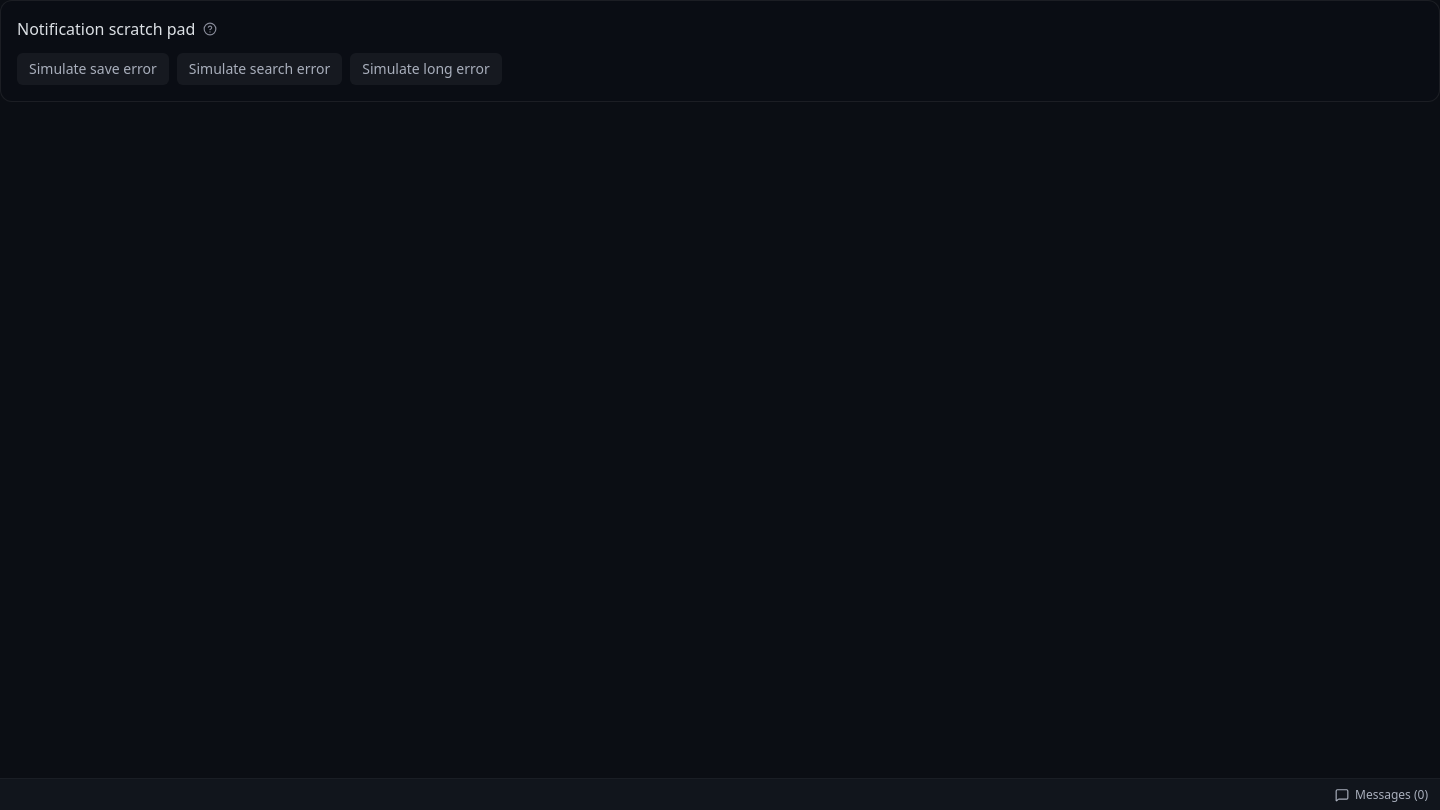
Test: sample errors use the app status line and history
Step 1. Click the button "Simulate save error" → x=93, y=69, box [17,53,169,85]
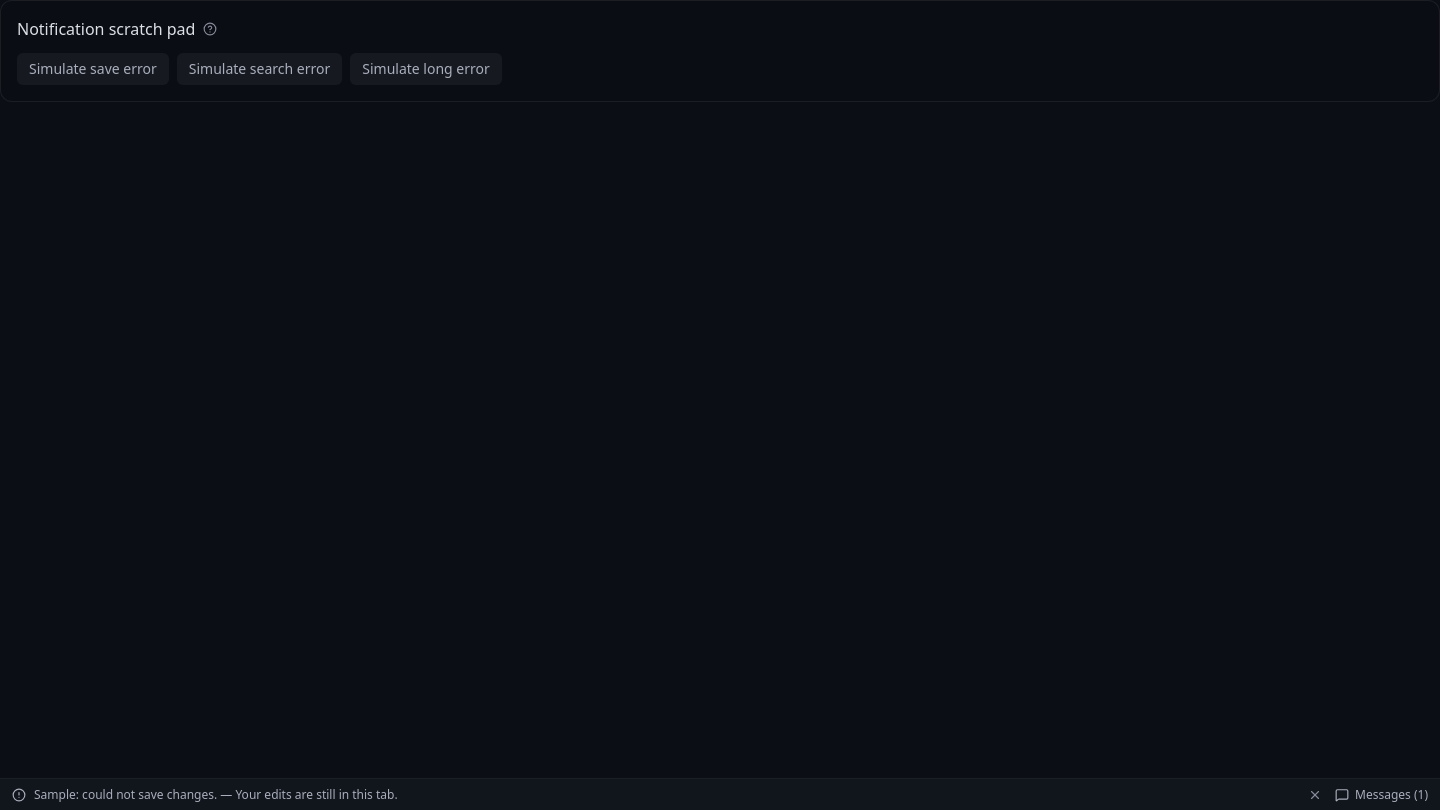
Result: the message shows "Sample: could not save changes." at [34,786,398,802]
Step 2. Click the button named "Dismiss notification" → x=1315, y=794, box [1303,782,1327,806]
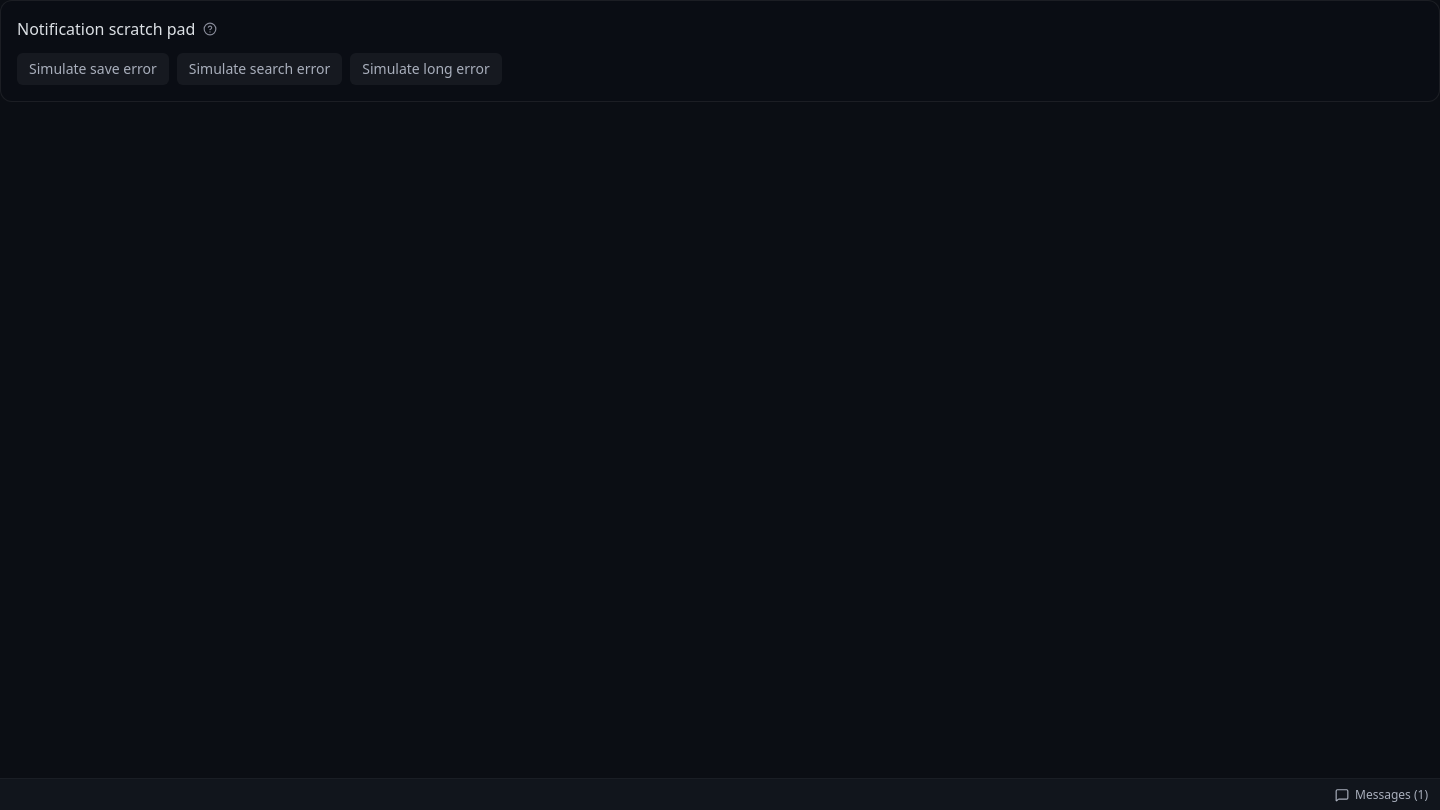
Step 3. Click the button "Messages (1)" → x=1382, y=794, box [1335,786,1428,802]
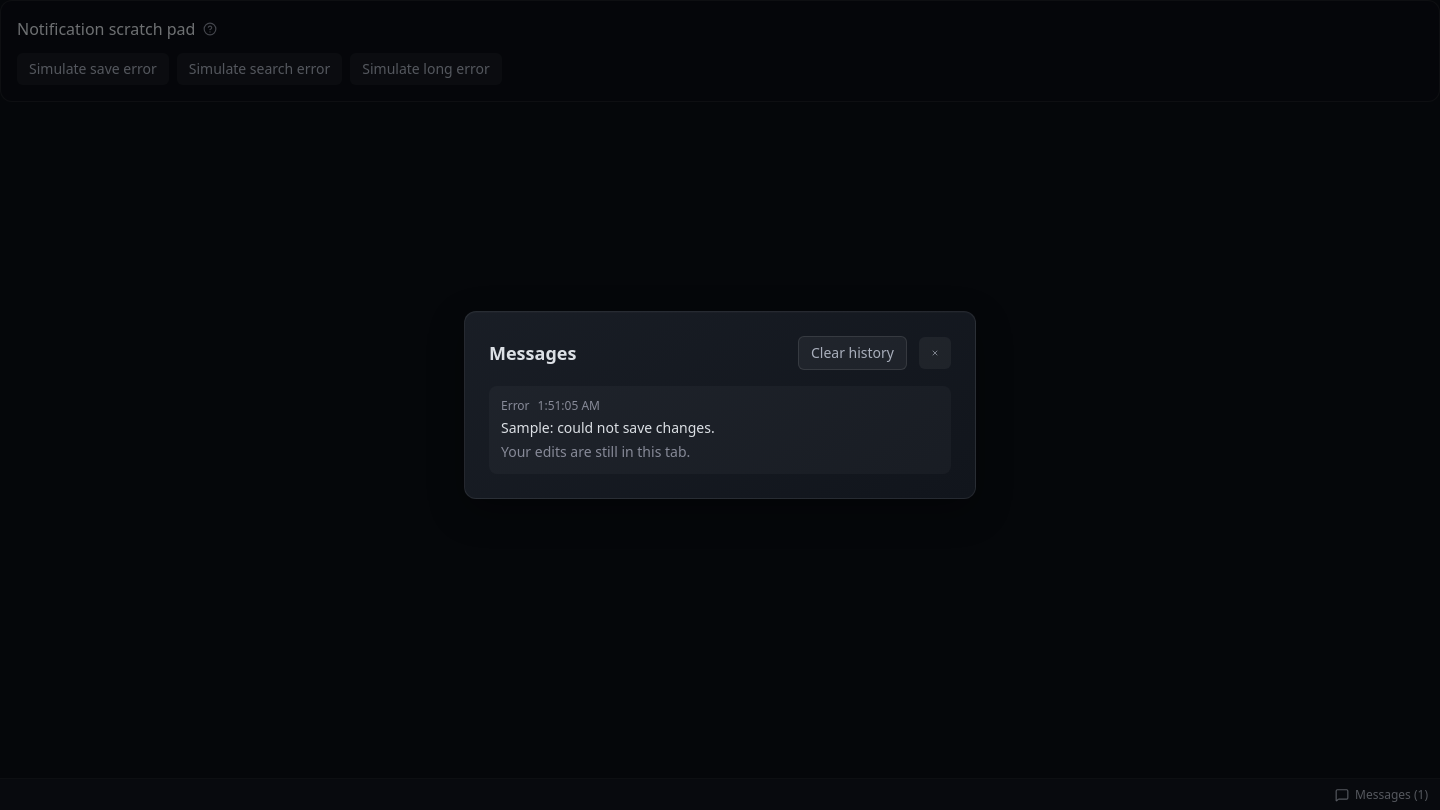
Result: the dialog "Messages" is shown at [464,311,976,499]
Result: the number of list items is 1 at [489,386,951,474]
Step 4. Click the button "Clear history" → x=852, y=353, box [798,336,907,370]
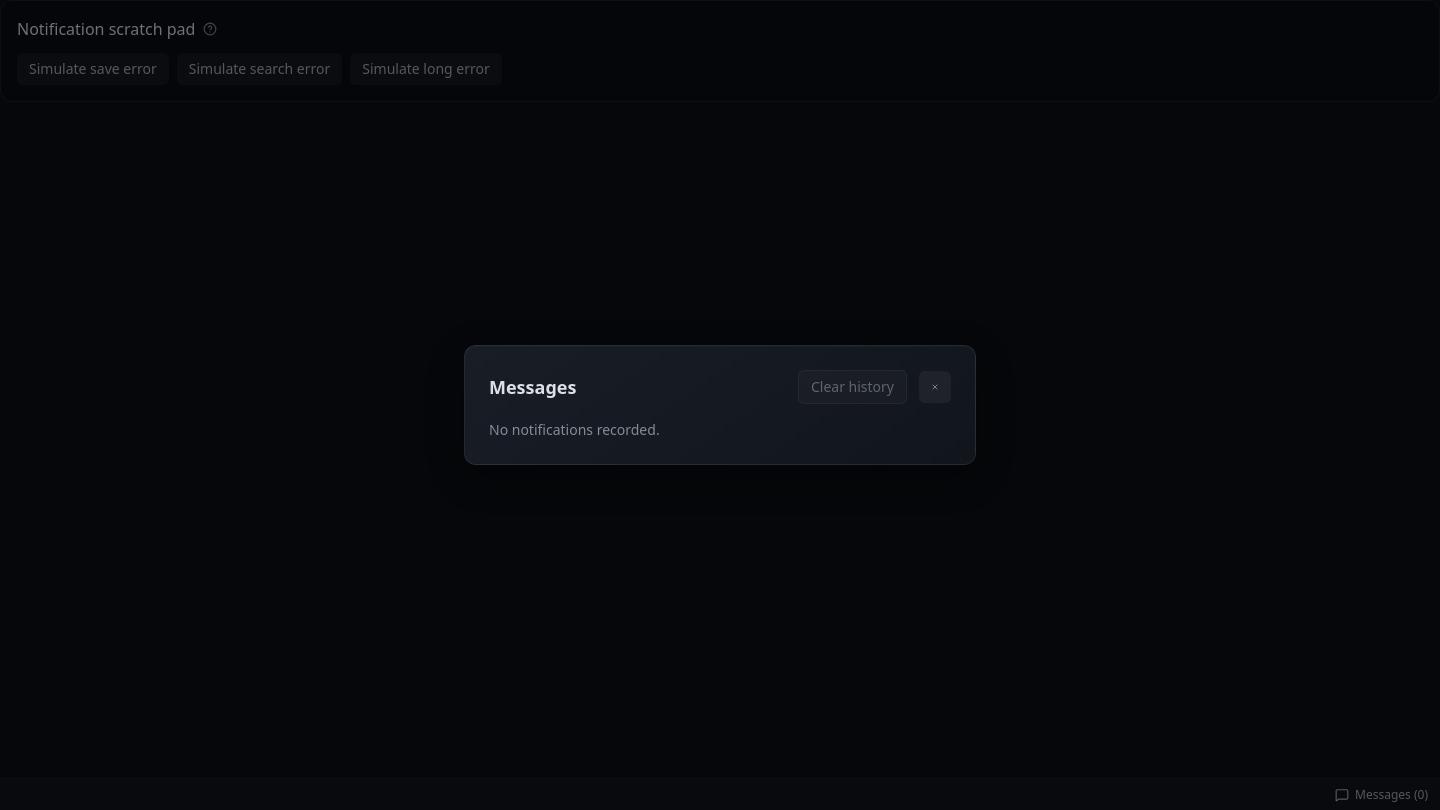
Result: no list items are shown
